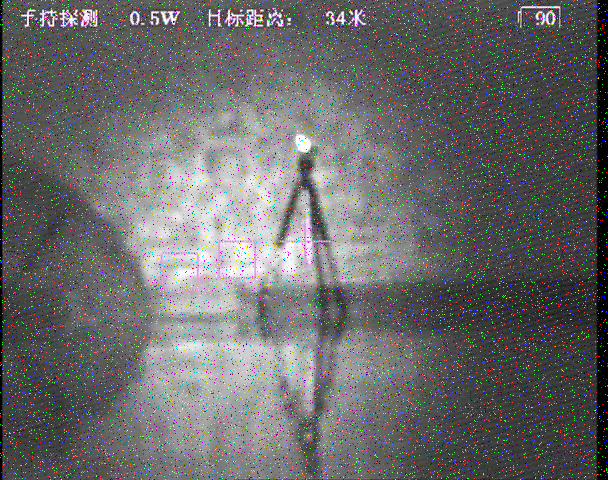my: (293, 132, 313, 154)
